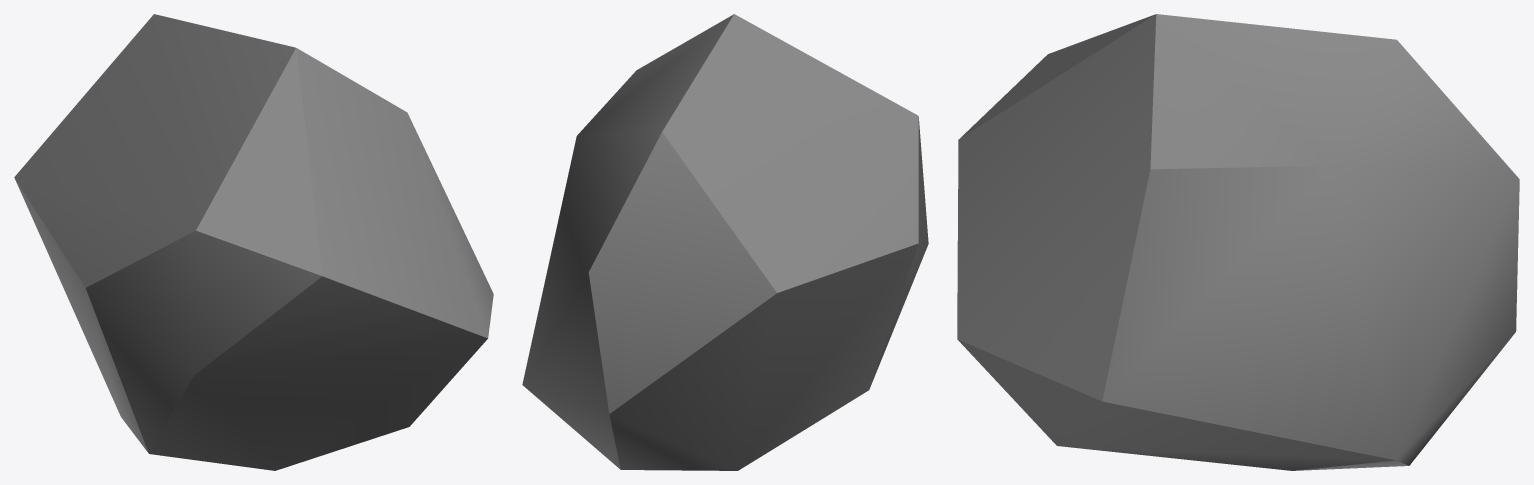
The model's file is rock_big_4.fbx.
3 views of the same model, side by side, from view 1: azimuth 30°, elevation 25°; view 2: azimuth 150°, elevation 25°; view 3: azimuth 270°, elevation 25° (orthographic). The views are drawn at different scales.
Parts seen in each view (by area): view 1: rock_big_4; view 2: rock_big_4; view 3: rock_big_4.
Boxes of the visible parts, left/top/right/bottom form: rock_big_4: left=14, top=14, right=493, bottom=470; rock_big_4: left=522, top=14, right=928, bottom=470; rock_big_4: left=957, top=14, right=1519, bottom=470.
Bounding box in the file's own units: 100 × 104 × 119.
